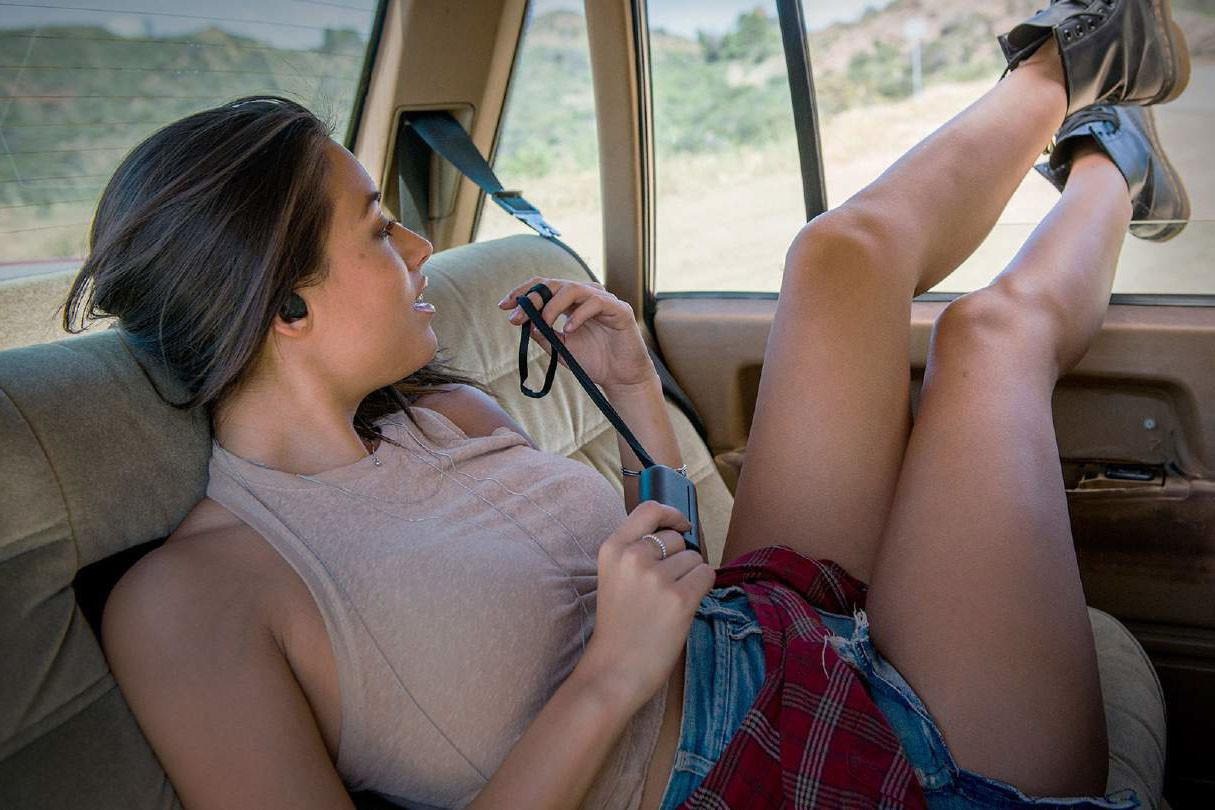earphone: (260, 289, 317, 324)
